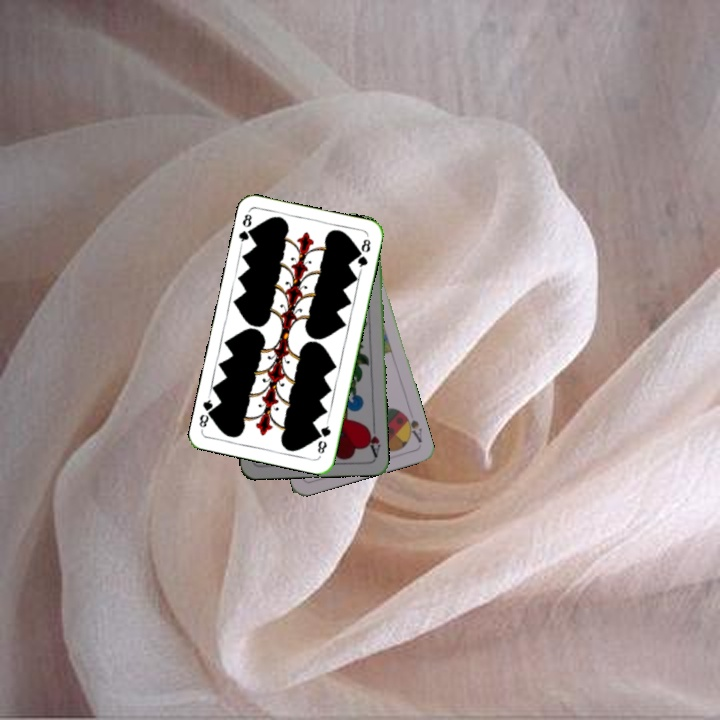G8: (235, 208, 257, 248), (313, 418, 334, 456)
HA: (363, 418, 383, 459)
SA: (399, 409, 425, 445)
